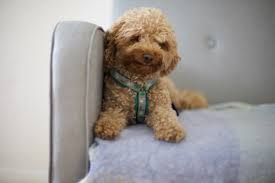Bulldog: (93, 1, 207, 145)
